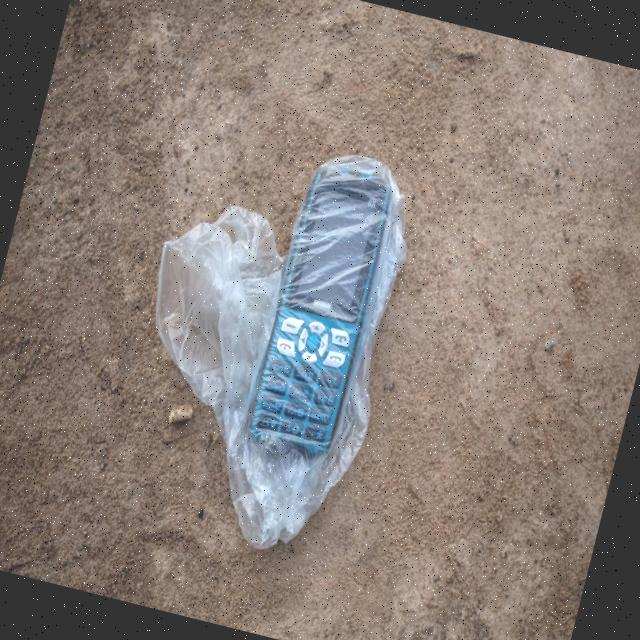Phone: (237, 140, 408, 468)
